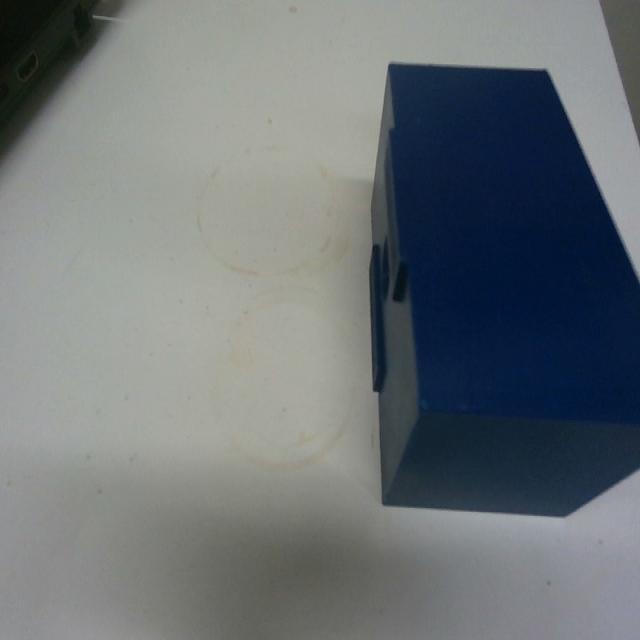Blue Cuboid: (366, 57, 639, 519)
